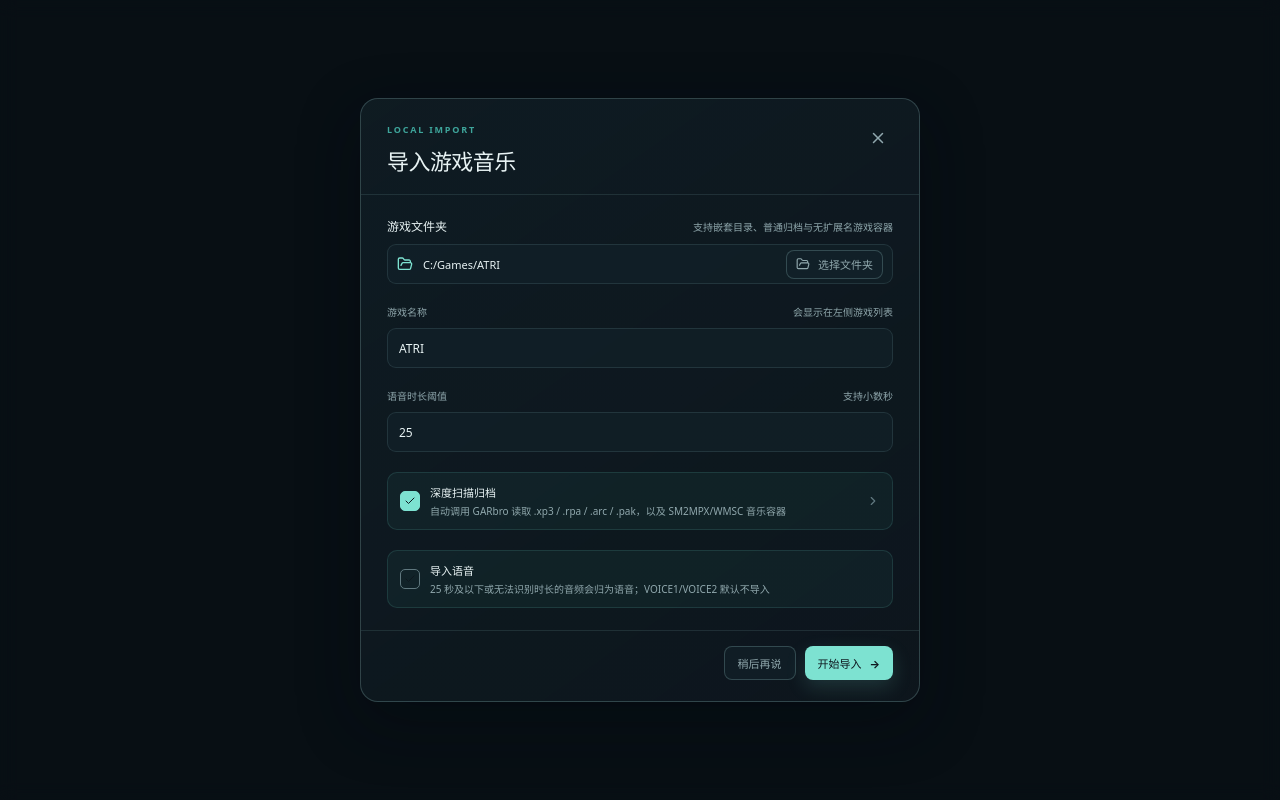
Test case: scan and settings surfaces › rejects invalid voice threshold
Clear the number field labelled "语音时长阈值 支持小数秒" at (640, 432), box [387,412,893,452]
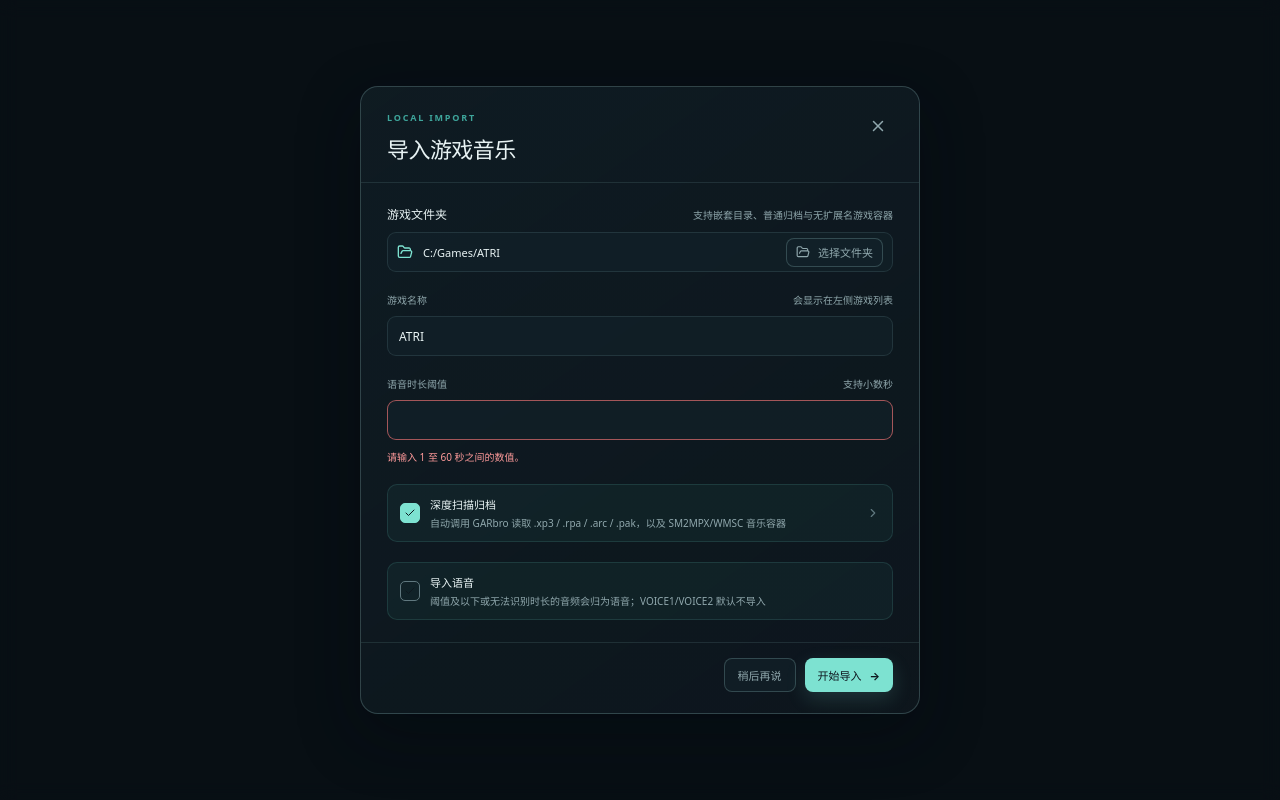
Now the button "开始导入 →" is disabled, box [804,658,893,692]
Now the text "请输入 1 至 60 秒之间的数值。" is shown, box [387,450,525,464]
